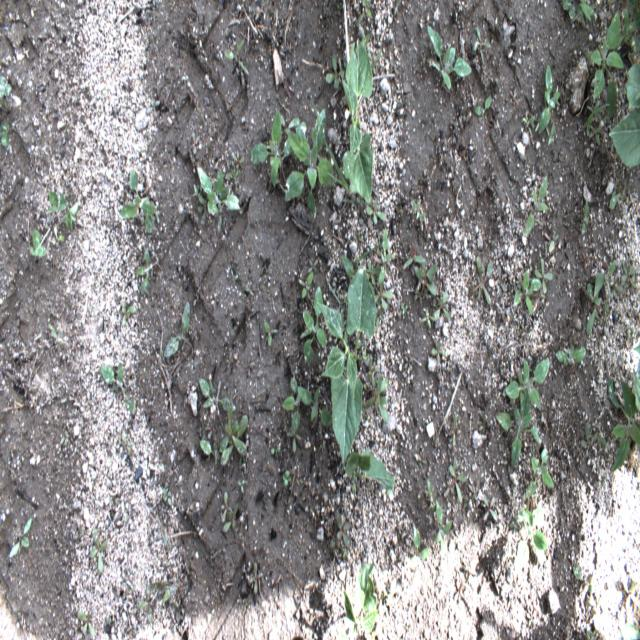crop: (316, 265, 376, 463), (341, 40, 374, 203), (608, 63, 640, 168), (343, 561, 380, 635), (346, 451, 395, 496)
weed: (286, 108, 334, 214), (585, 12, 624, 117), (310, 96, 348, 192), (495, 389, 542, 465), (250, 109, 294, 188), (193, 167, 240, 233), (608, 375, 640, 471), (426, 24, 472, 90), (31, 200, 79, 256), (509, 506, 546, 576), (502, 356, 551, 408), (119, 167, 158, 232), (300, 285, 326, 362), (100, 361, 136, 414), (220, 398, 248, 465), (525, 175, 549, 239), (538, 65, 560, 134), (163, 302, 190, 358), (525, 448, 554, 499), (296, 386, 332, 427), (409, 524, 430, 590), (198, 377, 236, 412), (362, 374, 389, 423), (134, 250, 162, 295), (585, 270, 604, 336), (584, 99, 610, 146), (514, 271, 541, 315), (618, 0, 640, 53), (469, 256, 493, 304), (413, 259, 438, 305), (444, 456, 467, 504), (327, 511, 350, 559), (282, 376, 301, 434), (353, 238, 384, 273), (8, 518, 32, 558), (572, 564, 596, 604), (436, 500, 452, 558), (224, 37, 248, 74), (90, 527, 107, 575), (200, 436, 229, 464), (378, 228, 392, 283), (473, 26, 491, 66), (606, 260, 624, 298), (325, 54, 345, 88), (327, 280, 348, 312), (534, 257, 552, 294), (555, 344, 585, 366), (145, 583, 177, 603), (374, 276, 393, 309), (402, 244, 426, 270), (632, 342, 640, 414), (138, 583, 152, 624), (622, 576, 638, 610), (366, 198, 386, 225), (298, 270, 314, 302), (609, 177, 625, 209), (223, 502, 239, 534), (621, 254, 636, 288), (78, 609, 96, 637), (46, 189, 66, 214), (434, 290, 450, 320), (576, 0, 598, 21), (482, 493, 498, 521), (447, 414, 461, 446), (249, 562, 263, 594), (280, 113, 300, 135), (425, 478, 436, 516), (366, 260, 382, 285), (121, 302, 136, 328), (220, 491, 232, 523), (264, 319, 278, 346), (357, 0, 372, 25), (368, 354, 379, 388), (286, 431, 302, 454), (341, 253, 355, 279), (411, 198, 426, 222), (474, 95, 492, 115), (420, 307, 436, 329), (431, 340, 446, 363), (581, 198, 590, 236), (619, 623, 640, 639), (494, 264, 506, 292), (522, 116, 536, 140), (369, 49, 382, 74), (226, 161, 240, 184), (581, 422, 593, 447), (0, 76, 13, 99), (561, 1, 575, 20), (189, 132, 200, 154), (232, 150, 245, 168), (0, 121, 9, 146), (283, 468, 292, 488), (375, 307, 384, 327), (163, 486, 172, 506), (595, 432, 606, 447), (479, 415, 488, 433), (471, 481, 479, 500), (353, 230, 363, 245), (361, 31, 370, 47), (390, 59, 399, 74), (548, 124, 554, 145), (404, 356, 412, 371), (238, 478, 245, 494), (231, 270, 238, 284), (402, 302, 408, 316), (628, 327, 634, 339), (270, 447, 280, 454)
